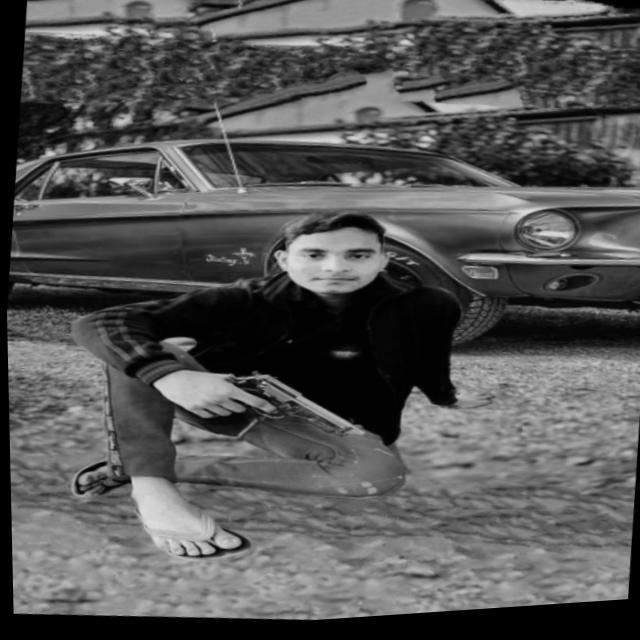weapon: (162, 358, 376, 457)
